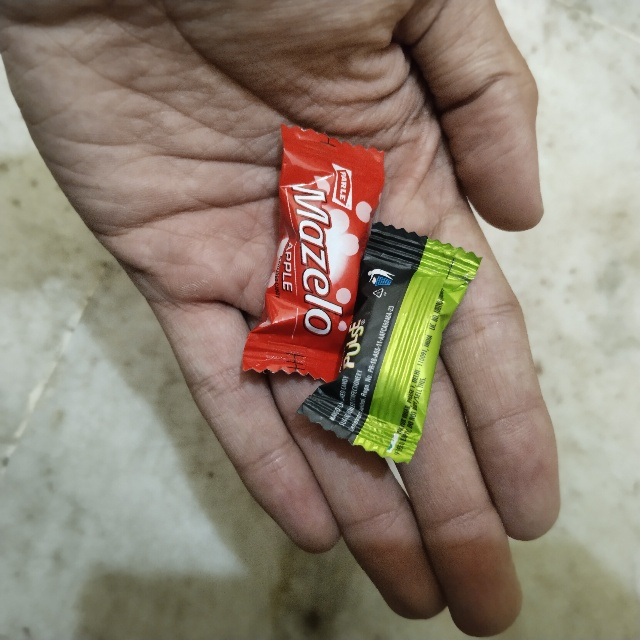Mazelo: (286, 123, 392, 376)
Pulse: (378, 218, 492, 446)
